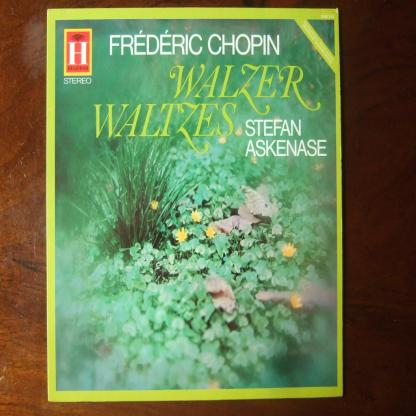book: (44, 11, 354, 405)
